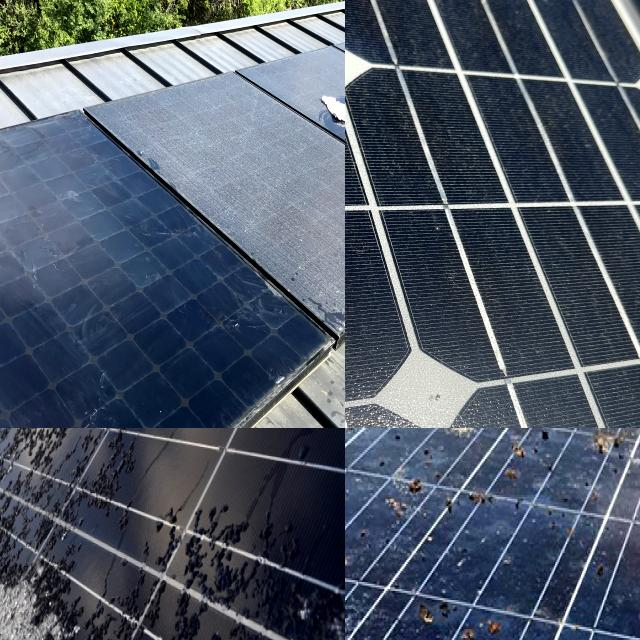bird: (404, 463, 459, 519), (413, 590, 461, 640), (586, 428, 633, 475), (345, 514, 375, 573), (351, 428, 395, 454), (483, 599, 510, 640), (516, 428, 572, 446), (450, 428, 491, 444), (482, 428, 512, 448), (615, 428, 640, 451), (503, 458, 522, 487), (483, 428, 504, 449), (427, 428, 462, 437)
crack: (345, 0, 640, 428)
dust: (94, 198, 268, 382), (0, 121, 76, 428), (162, 102, 304, 198), (292, 52, 345, 120), (87, 399, 190, 428), (277, 211, 315, 284), (322, 174, 345, 277), (226, 74, 272, 92)
panel: (0, 533, 91, 640), (0, 513, 35, 640), (31, 428, 141, 464), (114, 602, 199, 640), (0, 590, 63, 640), (0, 428, 47, 491), (0, 435, 20, 573), (0, 512, 40, 578), (0, 428, 30, 483), (0, 428, 29, 481)
